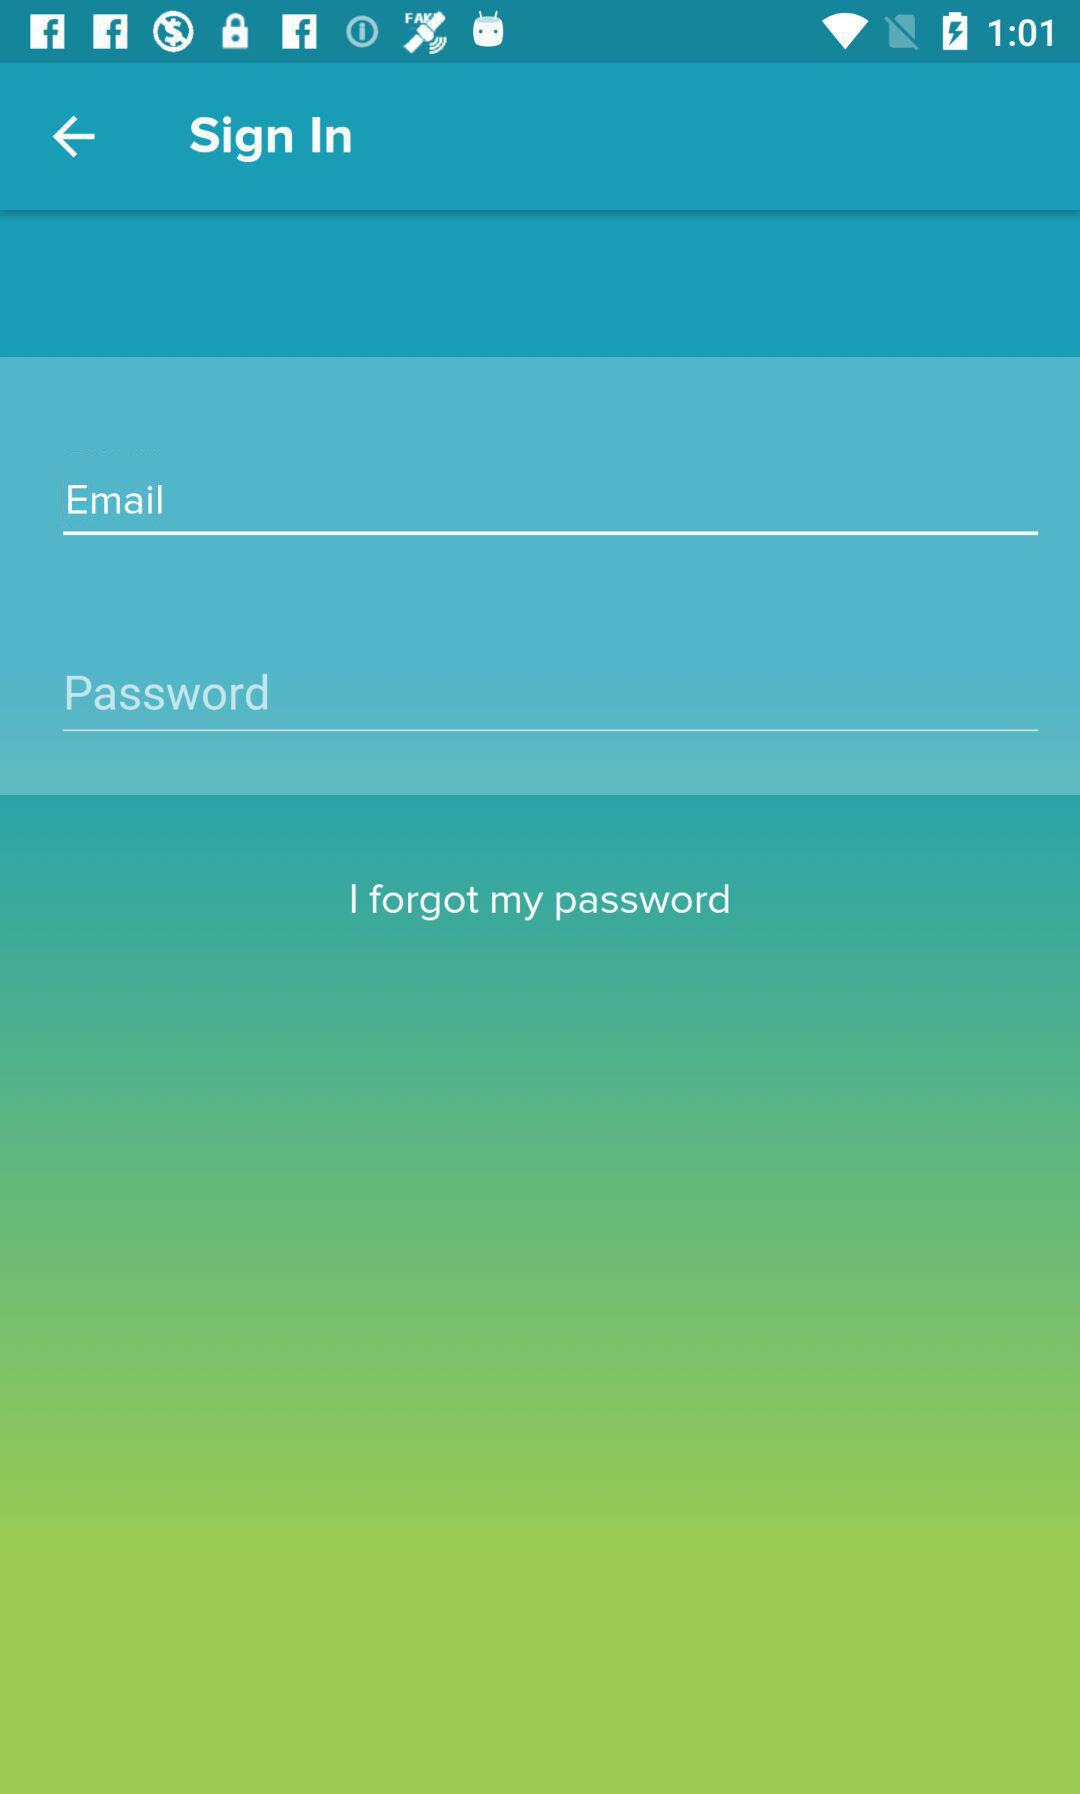EditText: (61, 671, 1040, 734), (63, 482, 1040, 537)
Icon: (53, 117, 97, 160)
Text: (351, 883, 730, 923), (67, 673, 269, 712), (190, 115, 354, 164), (67, 484, 163, 516)
Toolbar: (1, 64, 1080, 214)
UpperTaskBar: (1, 1, 1080, 64)
